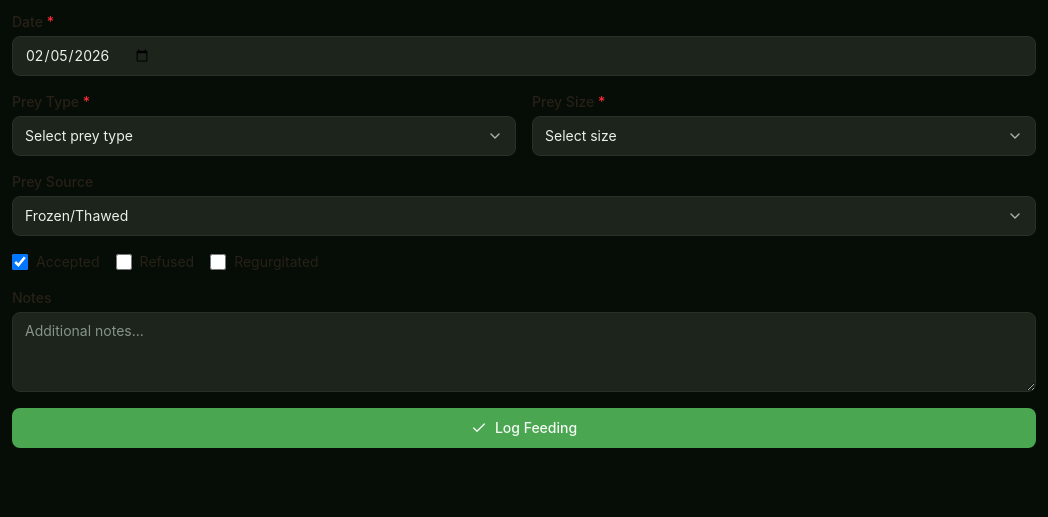
FeedingForm › validation › should show error when date is empty
The image size is (1048, 517).
# Clear the date
Clear the date field labelled "Date *" at [524, 56], box 12,36 -> 1036,76
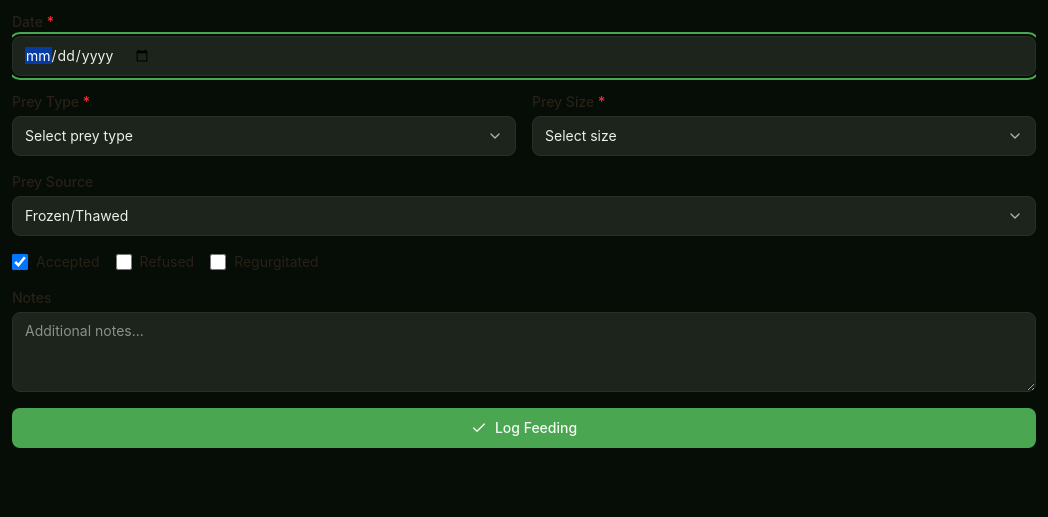
# Submit form
Click the button "Log Feeding" at [524, 428], box 12,408 -> 1036,448
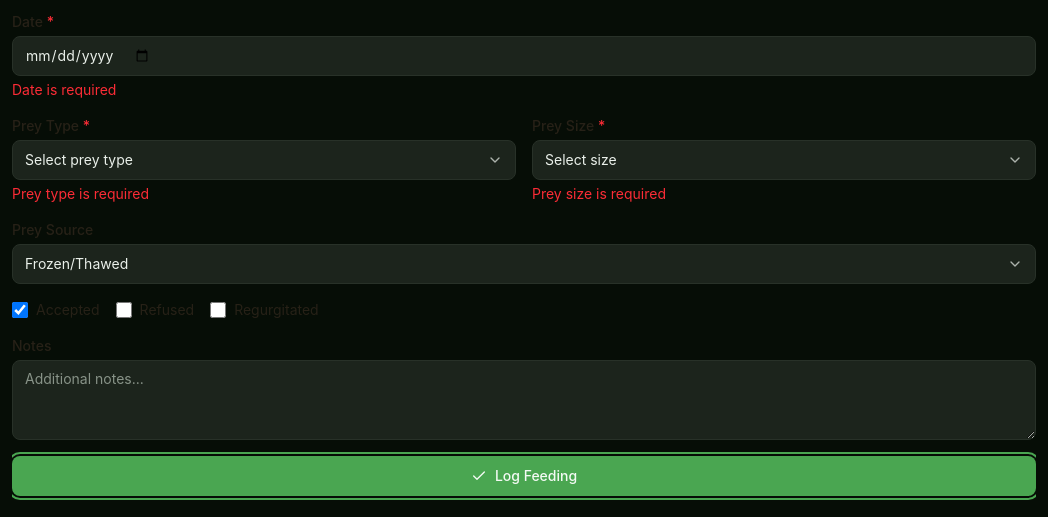
Expected: the text "Date is required" is shown, 12,81 -> 116,98
